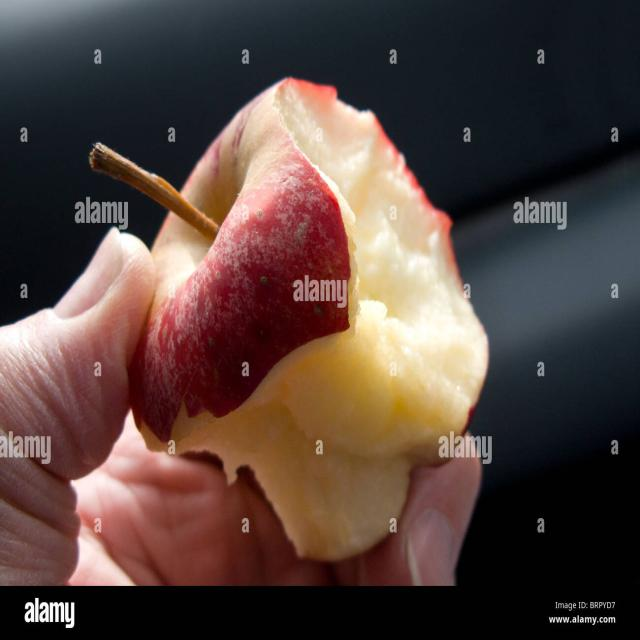apple_fruit: (78, 58, 527, 604)
